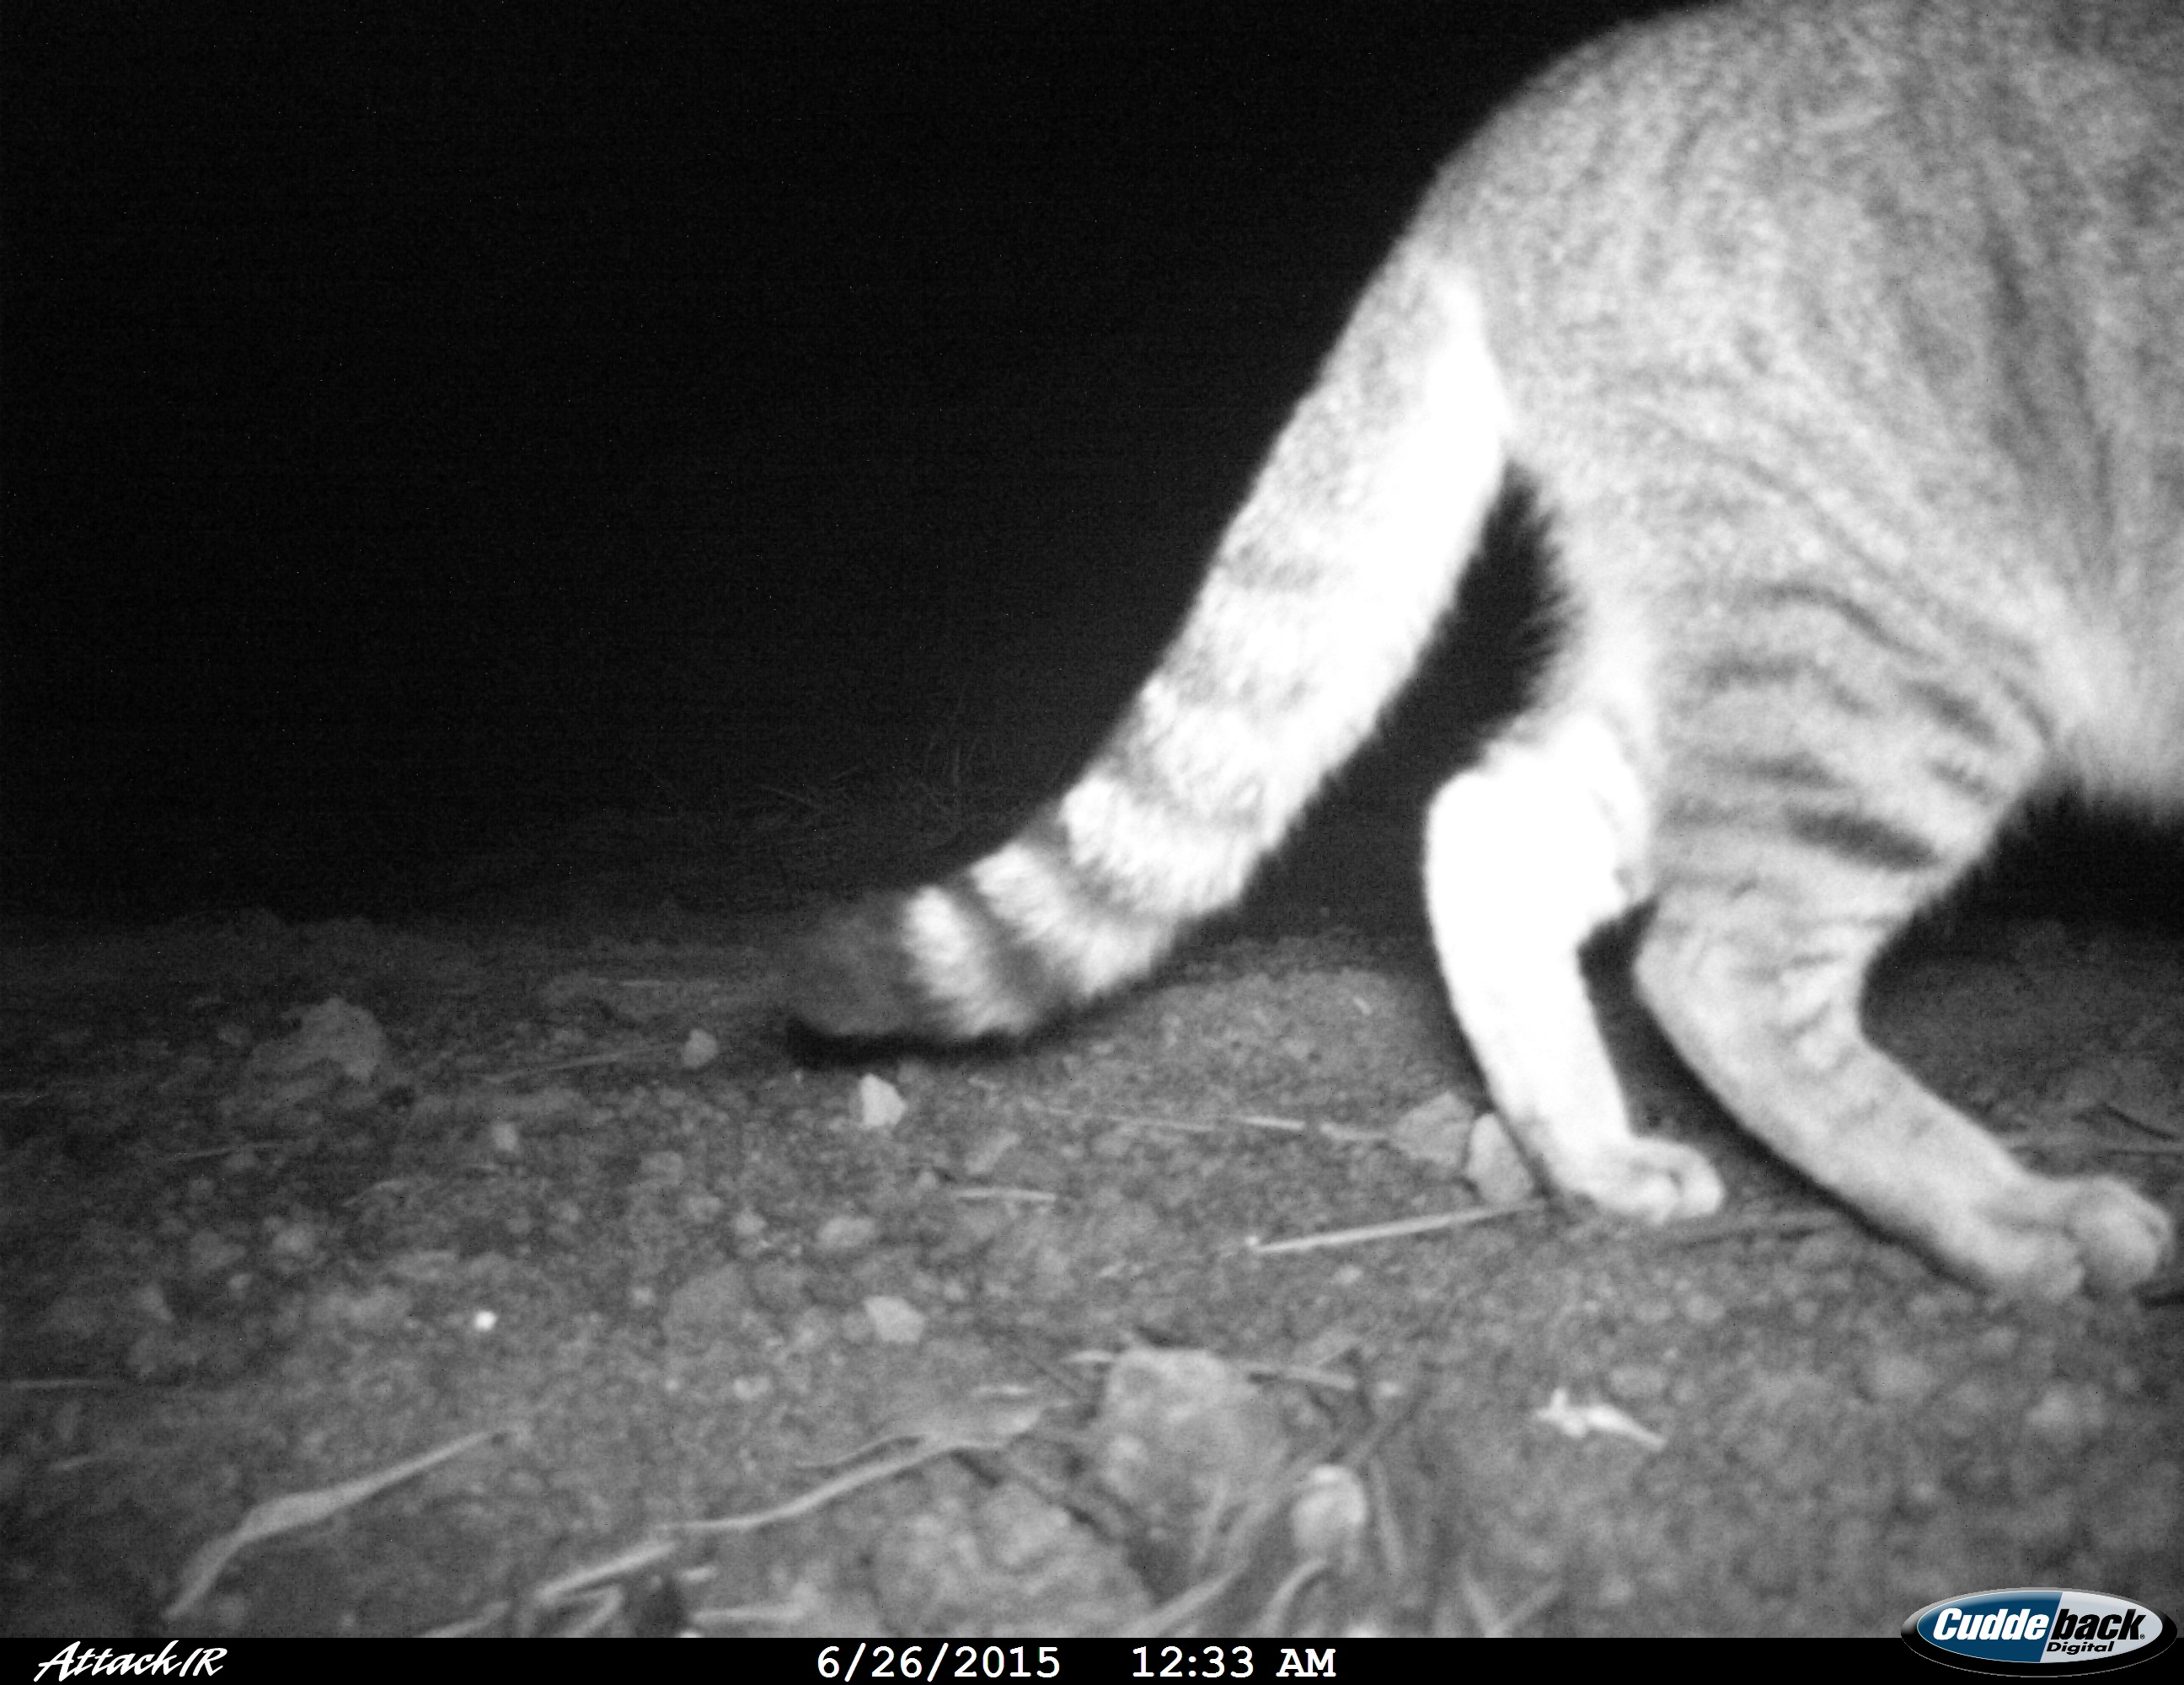cat: (738, 0, 2182, 1322)
